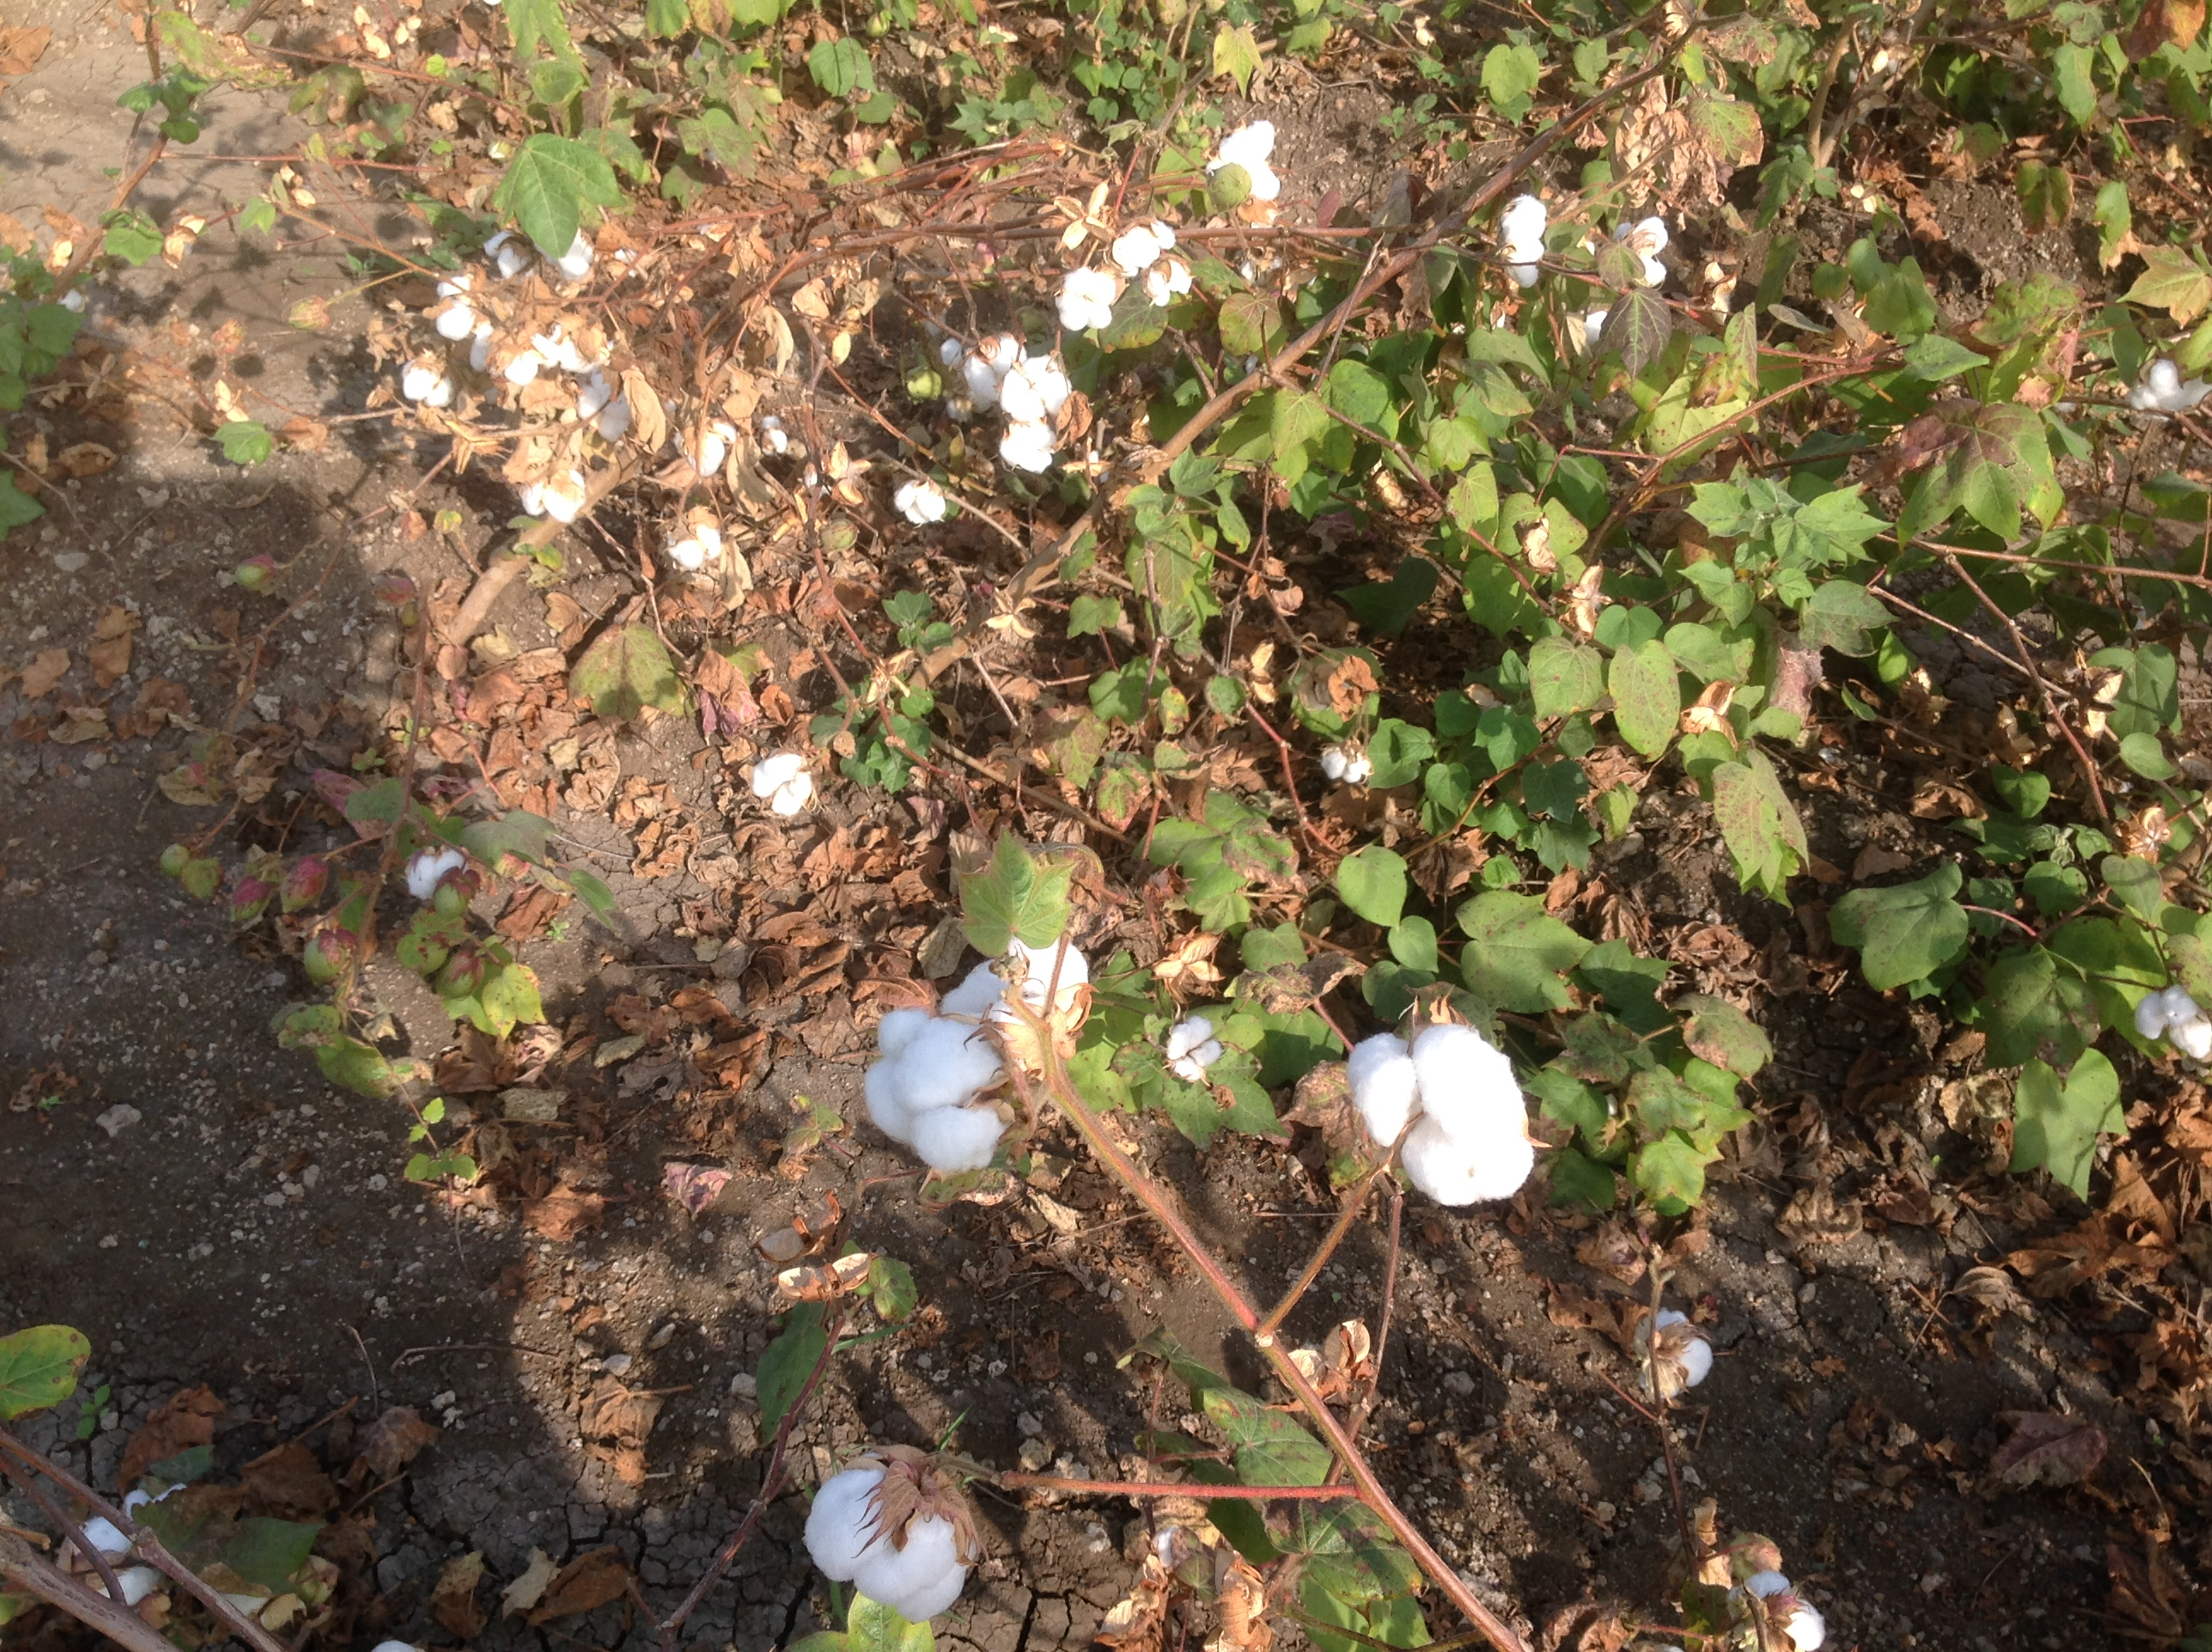cotton: (874, 928, 1109, 1175), (1329, 1019, 1549, 1222), (800, 1433, 1001, 1624), (959, 331, 1100, 484), (62, 1454, 194, 1616), (1686, 1548, 1848, 1649), (501, 416, 628, 524), (1600, 194, 1690, 330), (468, 220, 609, 307), (461, 323, 642, 382), (1199, 115, 1294, 213), (1626, 1298, 1709, 1407), (730, 734, 817, 826), (2120, 354, 2212, 439), (1105, 219, 1190, 307), (2132, 975, 2209, 1071), (1490, 194, 1553, 311), (401, 847, 475, 937), (1157, 1013, 1227, 1098)
